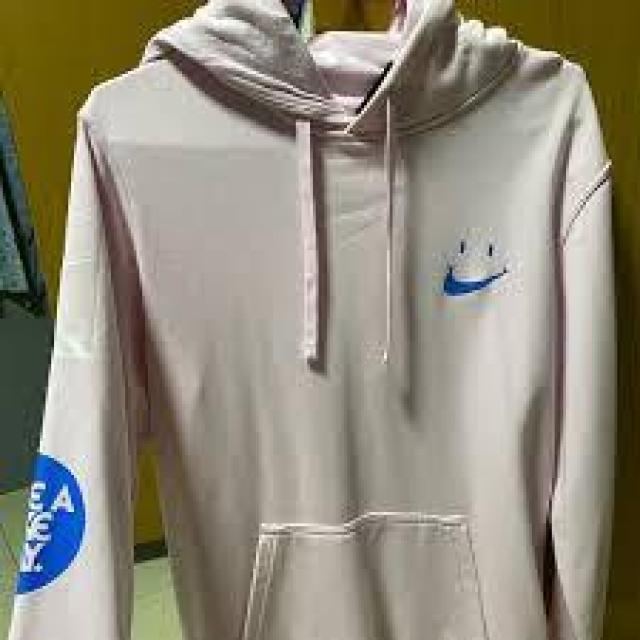sweater: (15, 8, 615, 640)
